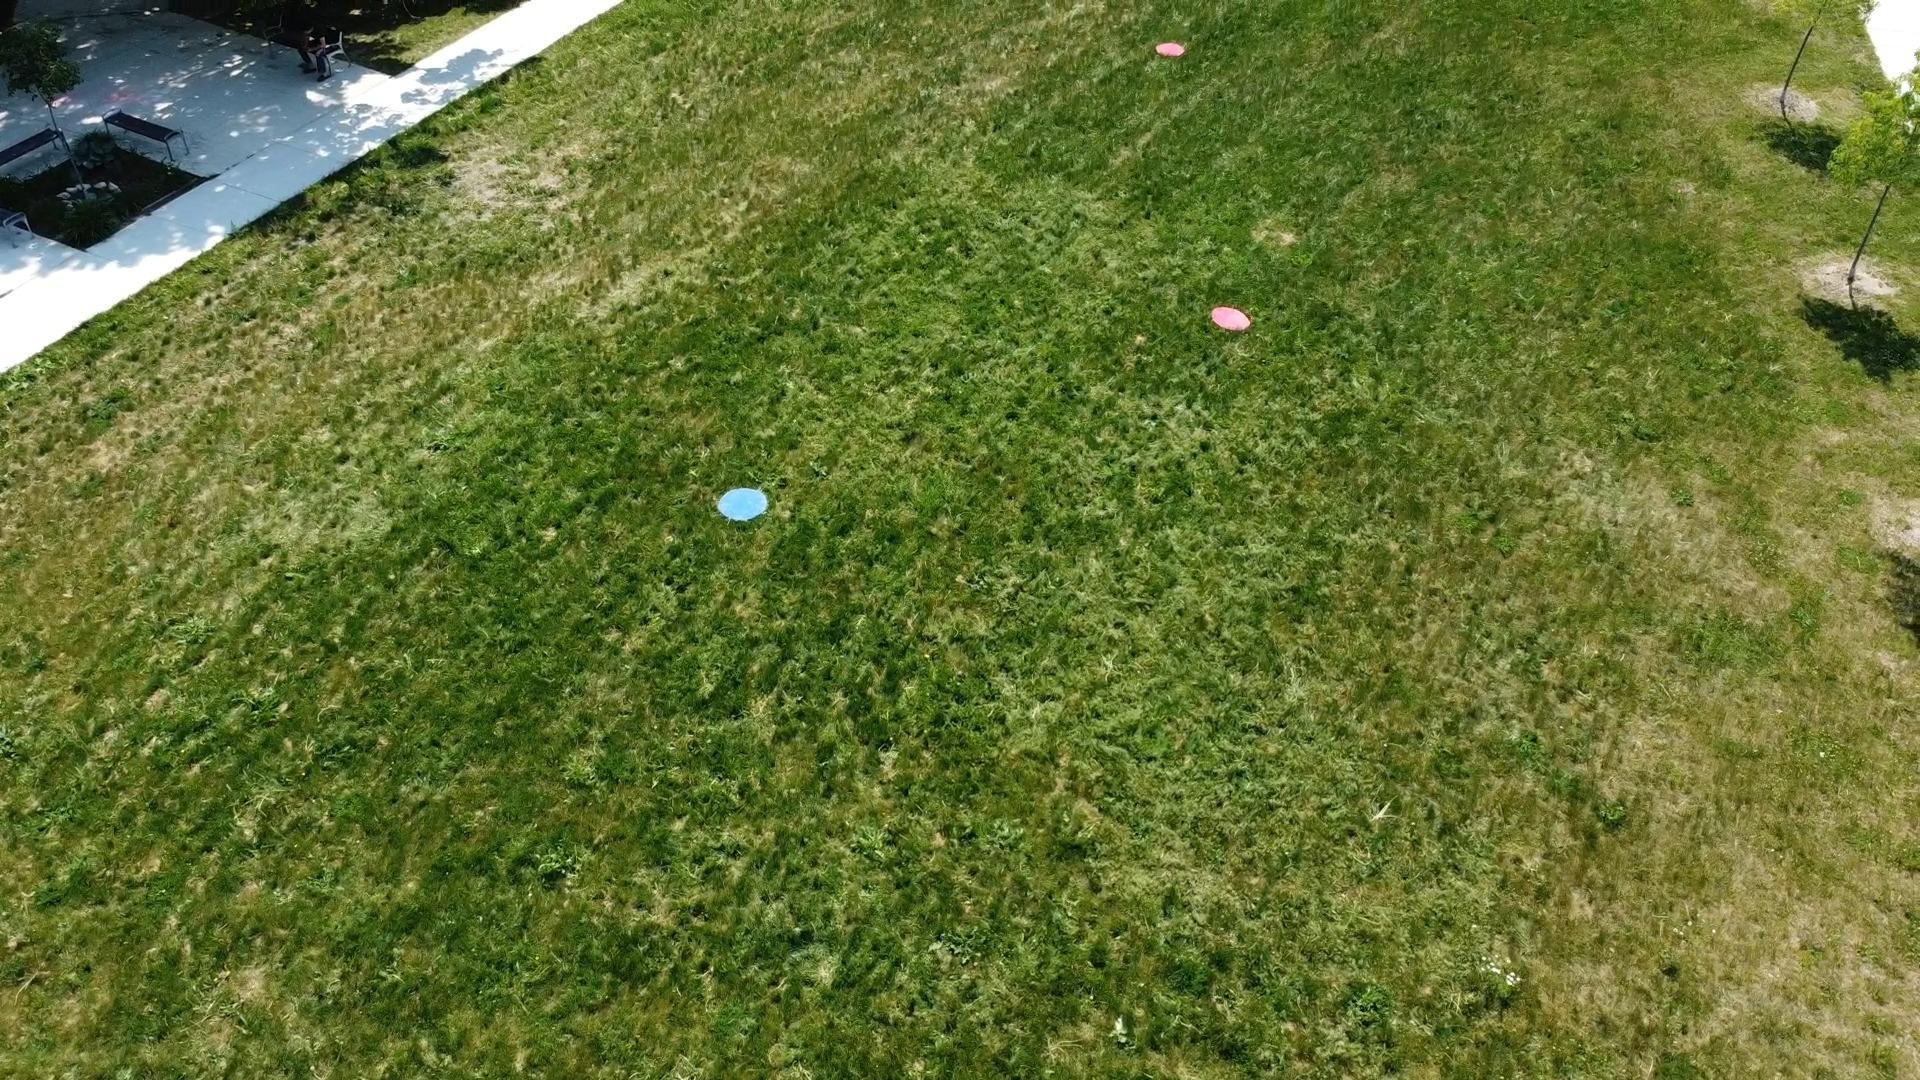Blue: (716, 485, 771, 524)
Red: (1209, 305, 1254, 332), (1154, 40, 1185, 59)
